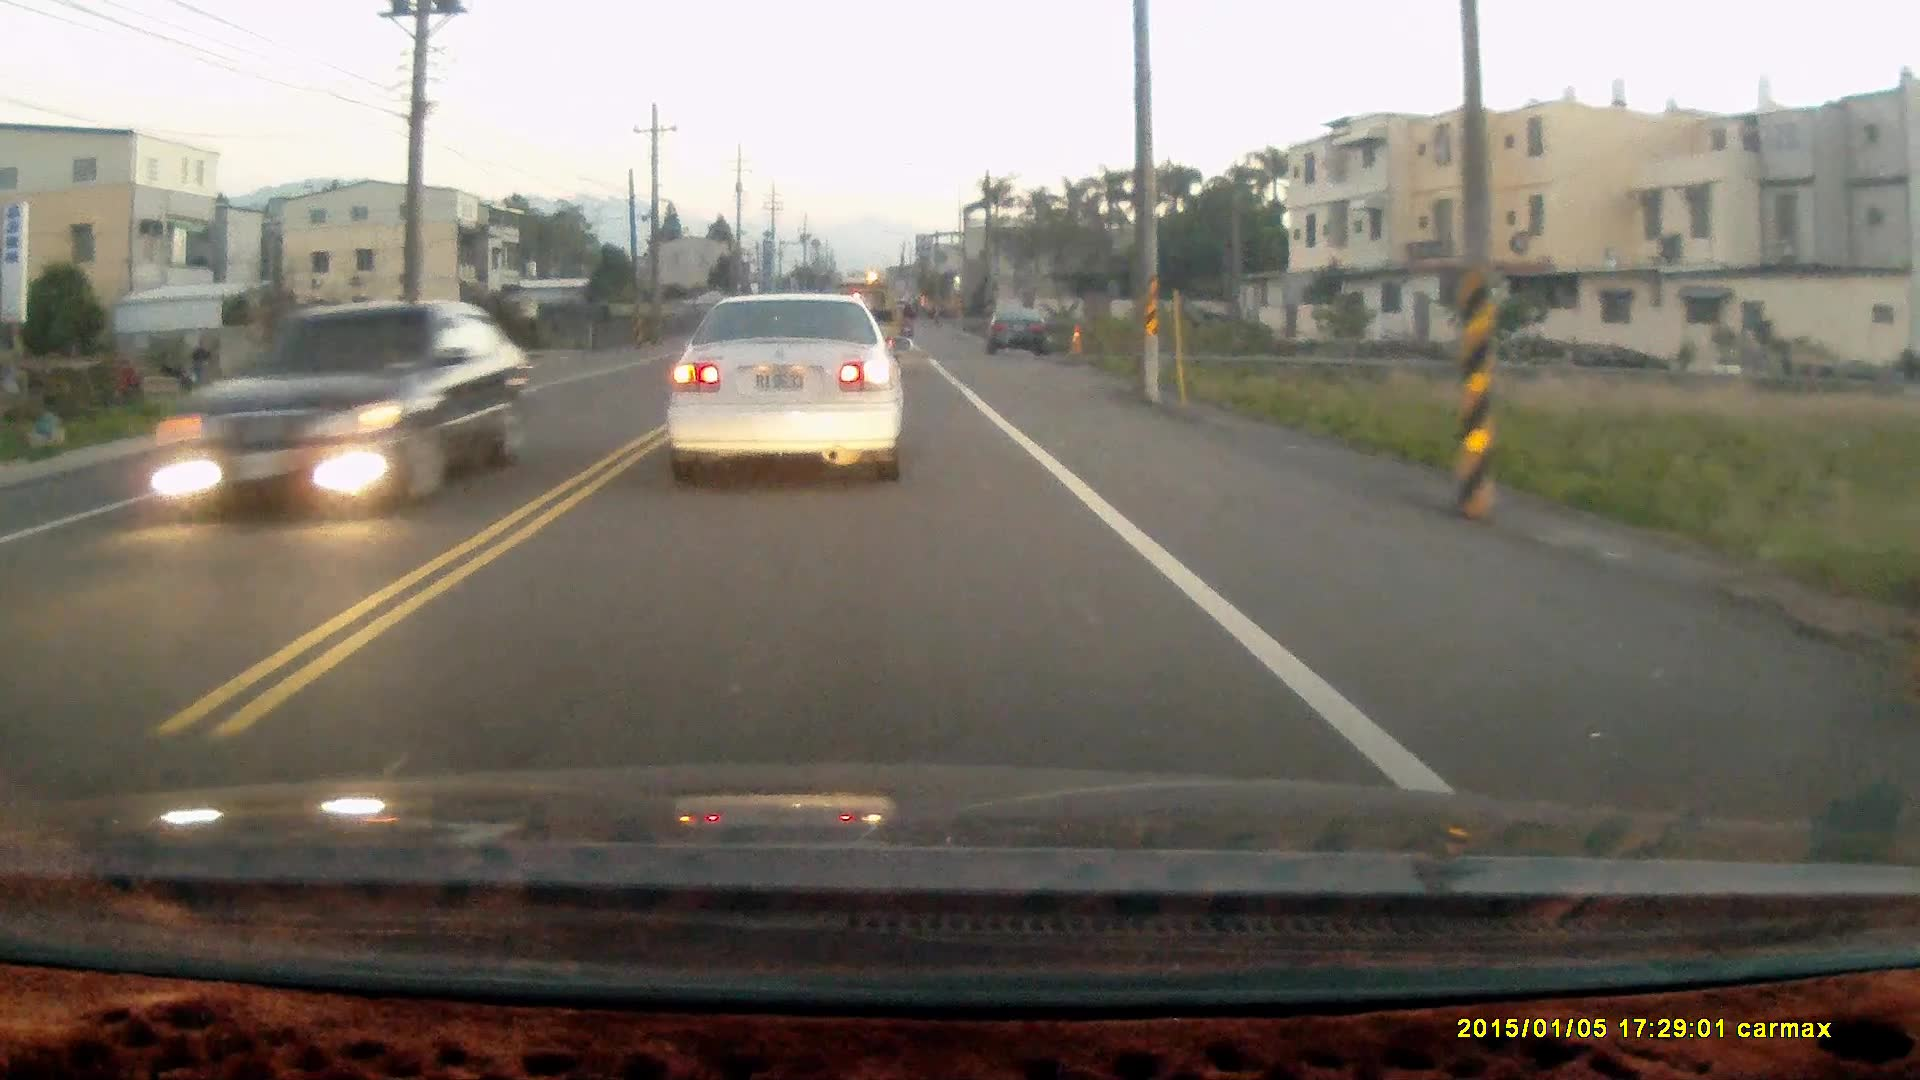pedestrian: (115, 356, 142, 407), (189, 337, 209, 386)
vehicle: (153, 299, 534, 523), (663, 294, 904, 490), (990, 297, 1060, 355)
